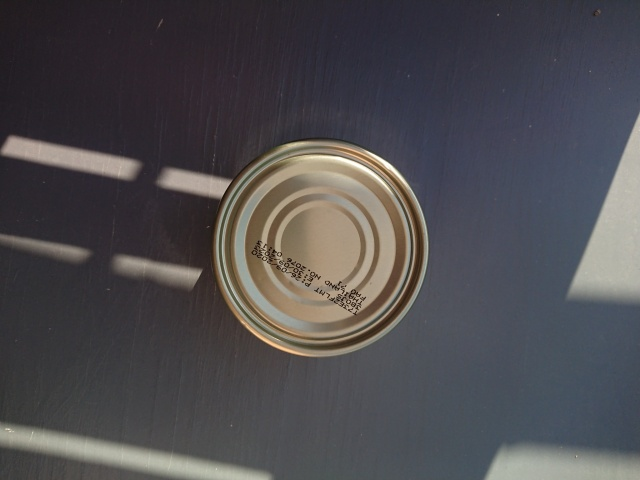Giana Tuna Salad Mexico 185g: (206, 135, 435, 362)
